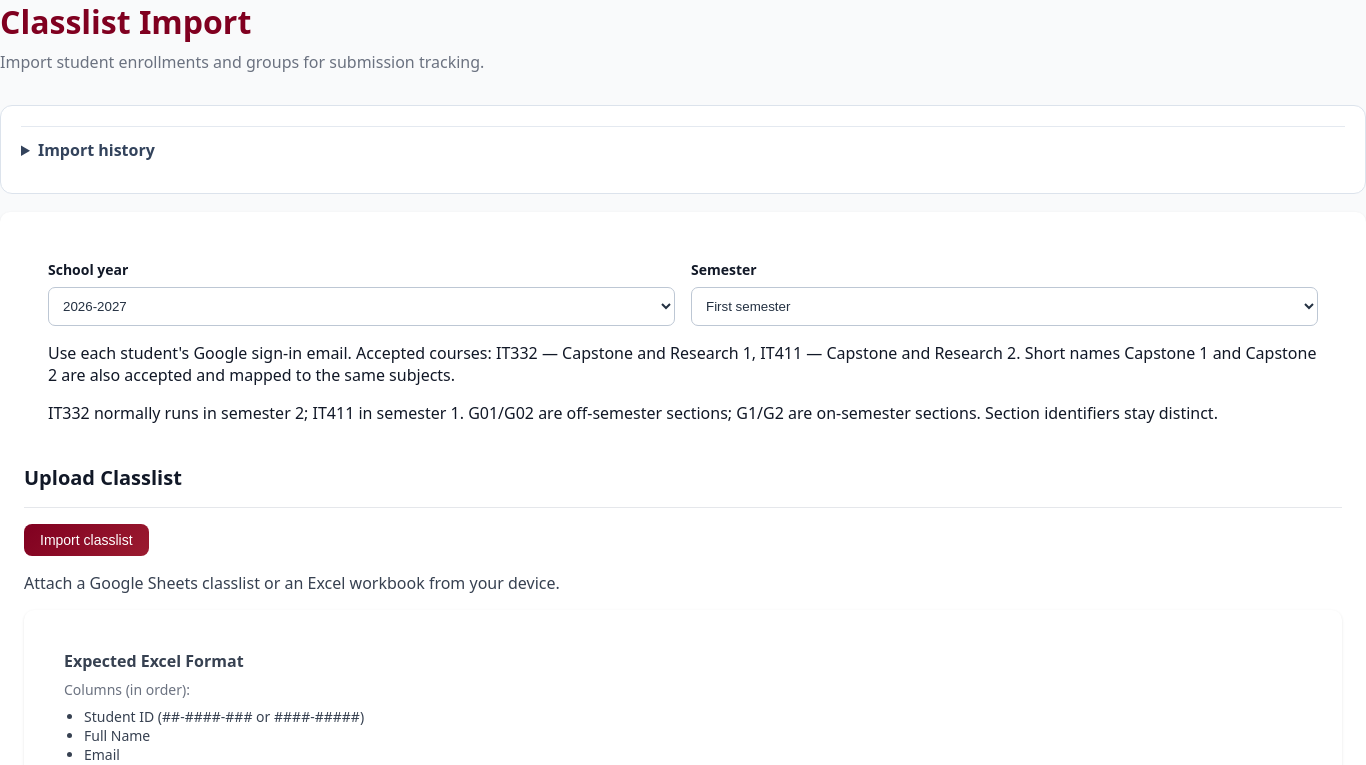
Test: browses Google Drive and imports the chosen private spreadsheet
This screenshot has width=1366, height=765.
Later steps or results of the test are not shown.
Click the button "Import classlist": click(86, 540) [24,524,149,556]
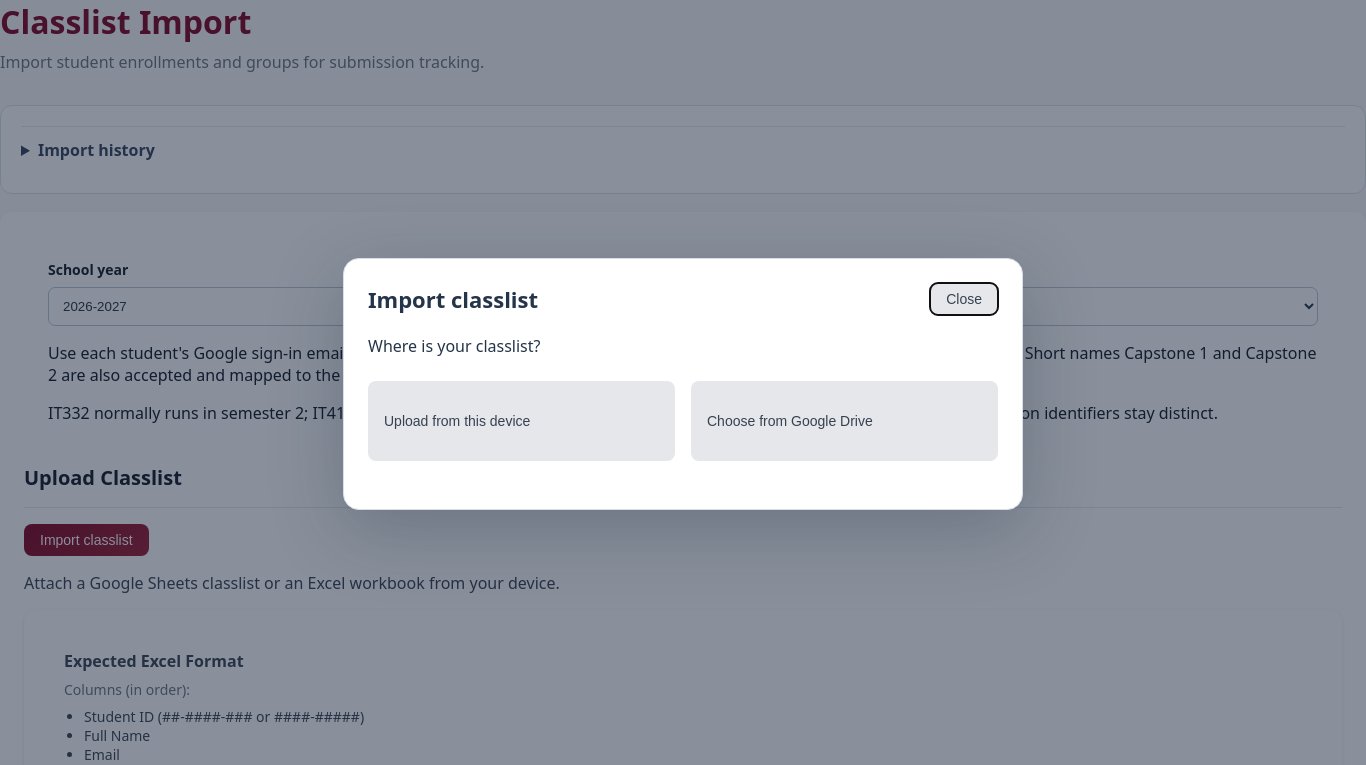
Click the button "Choose from Google Drive": click(844, 421) [691,381,998,461]
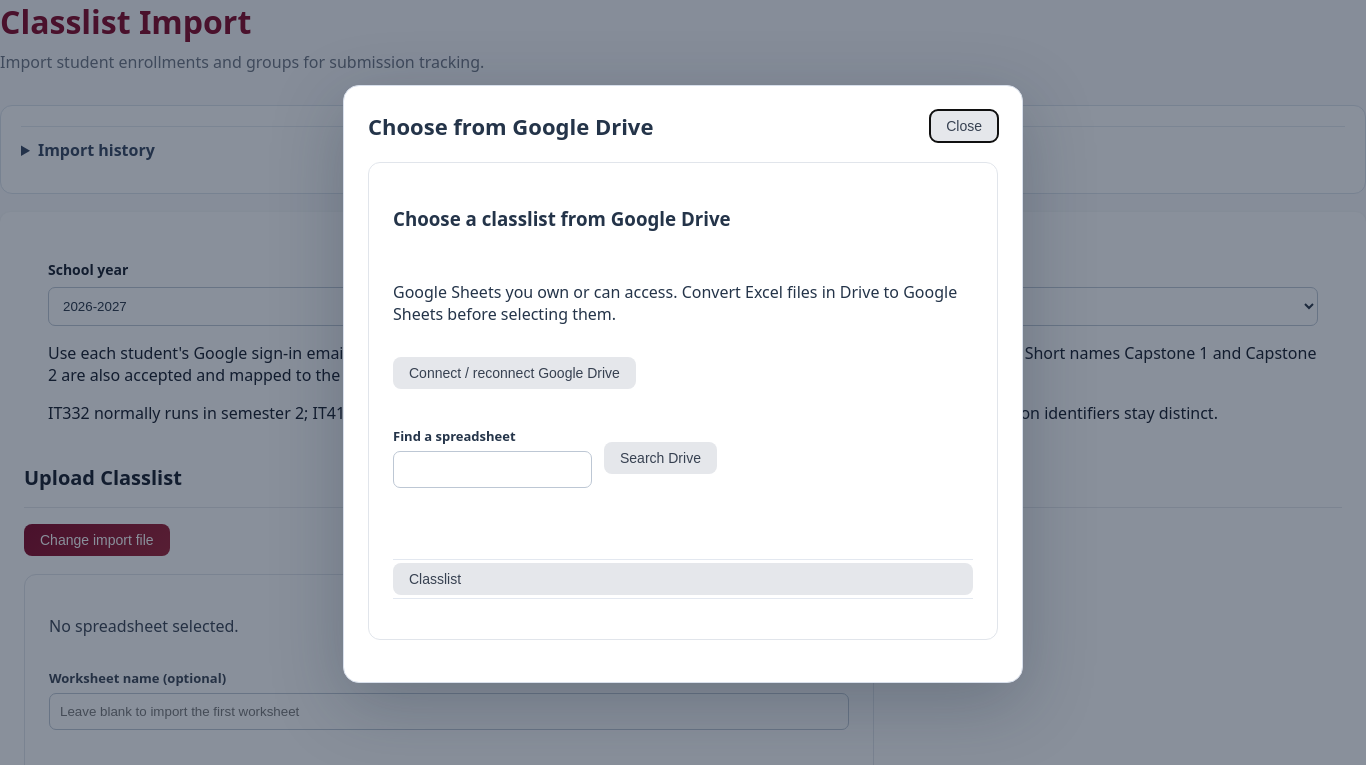
Click the button "Connect / reconnect Google Drive": click(514, 374) [393,358,636,390]
Click the button "Classlist": click(435, 579) [393,563,973,595]
(page scrolled)
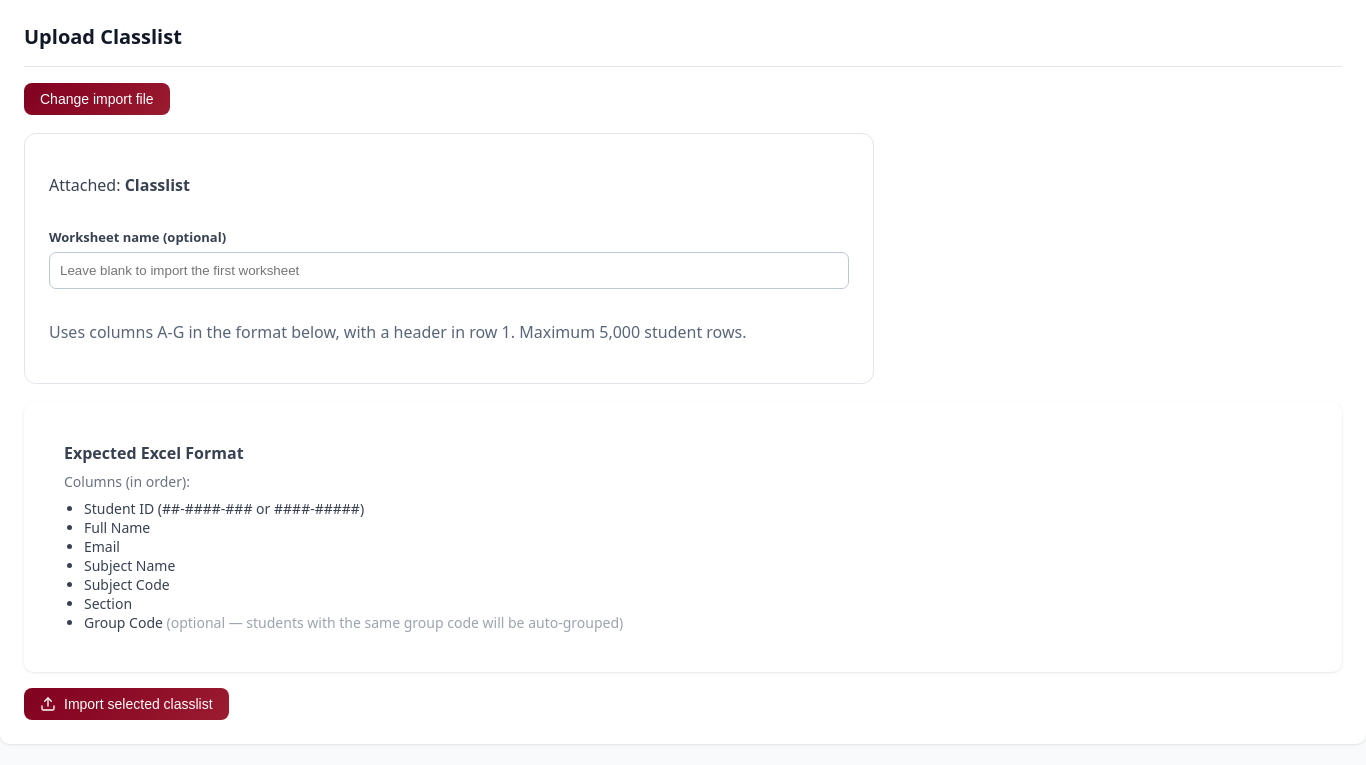
expect the dialog is gone: met
